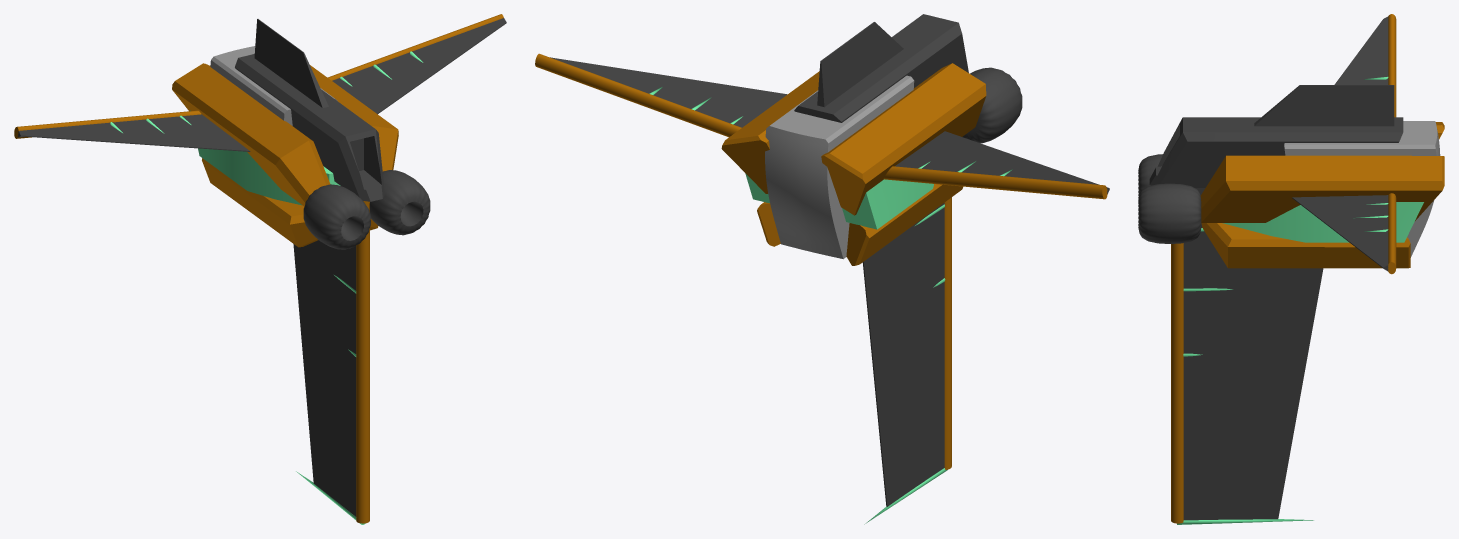
Rendered from Vertical_Player.fbx.
The picture shows the model from 3 angles, left to right: view 1: azimuth 30°, elevation 25°; view 2: azimuth 150°, elevation 25°; view 3: azimuth 270°, elevation 25°; orthographic projection. The views are drawn at different scales.
Visible parts, largest first — view 1: pCube1, pCube3, pCube2, pCube11.001, pCube11, pCylinder1, pCylinder5, pCylinder4, pCube6, pCube9, pCube5, pCube4 (+3 smaller); view 2: pCube1, pCube8, pCube3, pCube2, pCube11.001, pCube11, pCube9, pCylinder7, pCube4, pCylinder7.001, pCube6, pCube5 (+2 smaller); view 3: pCube1, pCube4, pCube2, pCube7, pCube9, pCube11.001, pCylinder1, pCylinder4, pCube8, pCube5, pCube11, pCylinder7 (+3 smaller).
Part boxes in pixels (box(x1,y1,x2,y2)): pCube1: box(293, 240, 356, 516); pCube3: box(172, 63, 330, 206); pCube2: box(235, 54, 384, 201); pCube11.001: box(332, 18, 506, 114); pCube11: box(18, 114, 250, 151); pCylinder1: box(356, 201, 369, 523); pCylinder5: box(303, 184, 370, 249); pCylinder4: box(369, 170, 430, 235); pCube6: box(202, 158, 317, 247); pCube9: box(254, 19, 328, 107); pCube5: box(190, 110, 340, 205); pCube4: box(310, 65, 398, 171); pCube1: box(862, 203, 944, 506); pCube8: box(765, 75, 914, 259); pCube3: box(821, 63, 986, 215); pCube2: box(794, 14, 968, 122); pCube11.001: box(550, 57, 787, 127); pCube11: box(895, 131, 1109, 194); pCube9: box(817, 22, 903, 107); pCylinder7: box(883, 166, 1107, 199); pCube4: box(721, 71, 819, 193); pCylinder7.001: box(535, 53, 741, 137); pCube6: box(846, 184, 962, 265); pCube5: box(745, 173, 933, 229); pCube1: box(1183, 188, 1323, 520); pCube4: box(1200, 155, 1444, 222); pCube2: box(1149, 117, 1403, 187); pCube7: box(1201, 223, 1410, 268); pCube9: box(1254, 85, 1394, 126); pCube11.001: box(1292, 195, 1388, 271); pCylinder1: box(1171, 243, 1183, 523); pCylinder4: box(1138, 183, 1201, 243); pCube8: box(1284, 121, 1440, 257); pCube5: box(1222, 202, 1423, 242); pCube11: box(1334, 16, 1388, 84); pCylinder7: box(1388, 14, 1396, 117).
Size of the model in its own units: 1832 by 1539 by 972.
